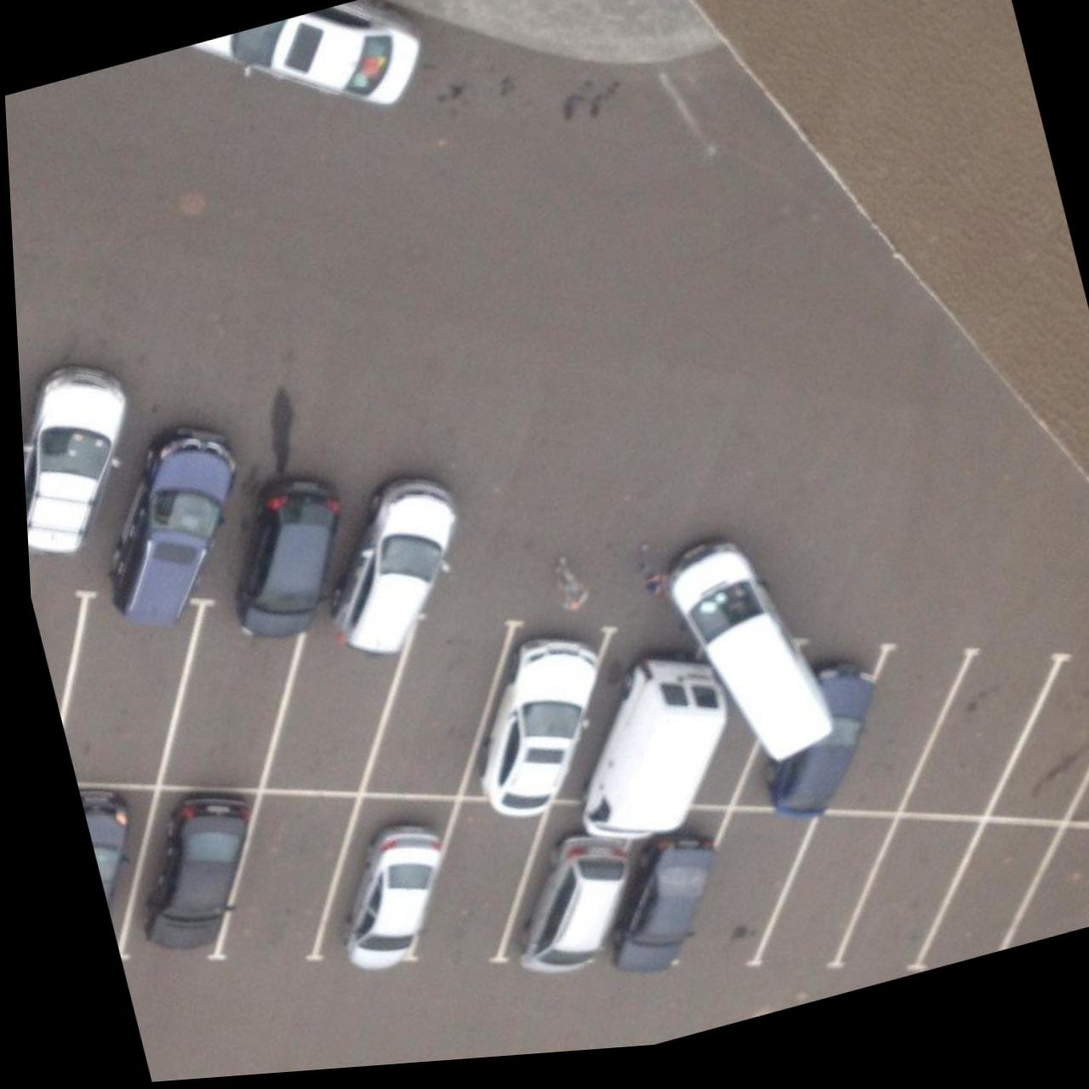cars: (280, 788, 499, 986), (448, 614, 648, 821), (626, 644, 842, 835), (97, 775, 284, 984), (701, 650, 902, 831), (550, 627, 738, 819), (489, 811, 687, 979), (566, 824, 748, 978)
empty: (862, 631, 1085, 825), (188, 774, 399, 977), (339, 613, 543, 819), (373, 790, 581, 992), (41, 597, 235, 802), (128, 614, 327, 808), (793, 644, 1002, 828), (237, 611, 437, 801), (807, 809, 1014, 975), (642, 808, 831, 986), (732, 812, 920, 989), (899, 820, 1088, 965), (957, 658, 1089, 824), (1007, 814, 1089, 943), (1043, 683, 1089, 830)
